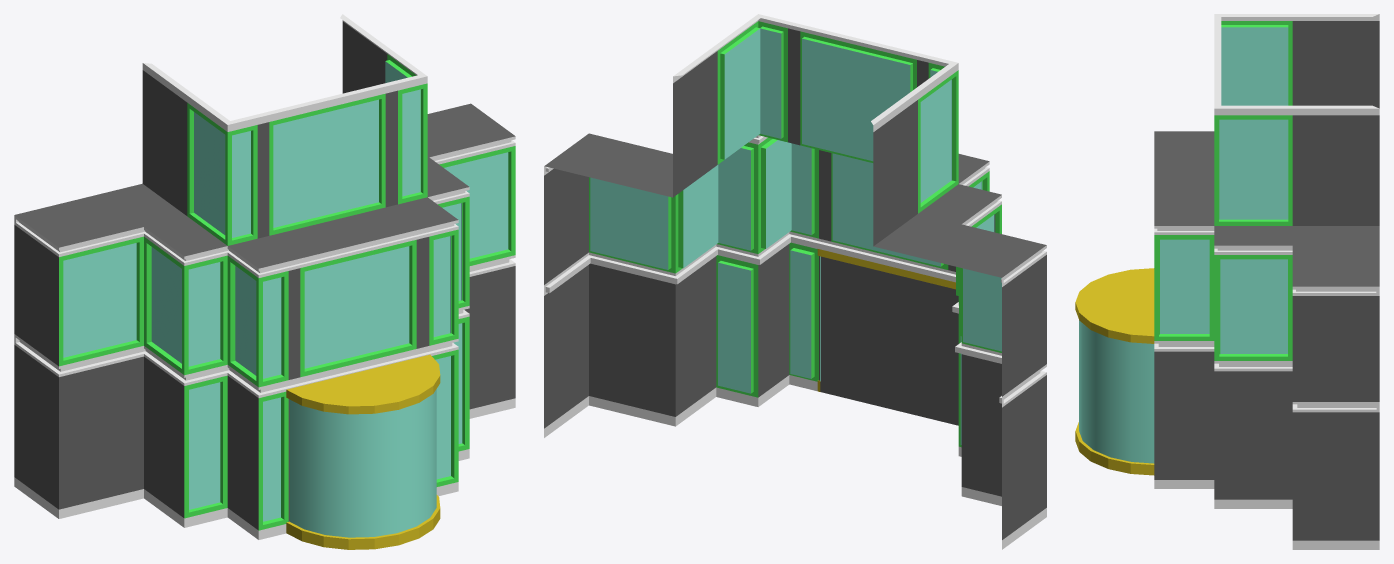
Rendered from Building_Middle.fbx.
3 views of the same model, side by side, from view 1: azimuth 30°, elevation 25°; view 2: azimuth 150°, elevation 25°; view 3: azimuth 270°, elevation 25° (orthographic). The views are drawn at different scales.
Visible parts, largest first — view 1: Building_Middle; view 2: Building_Middle; view 3: Building_Middle.
Boxes of the visible parts, x1,y1,x2,y2 form: Building_Middle: (14,14,515,549); Building_Middle: (544,14,1046,549); Building_Middle: (1075,14,1379,549).
Size of the model in its own units: 1507 by 896 by 1237.
